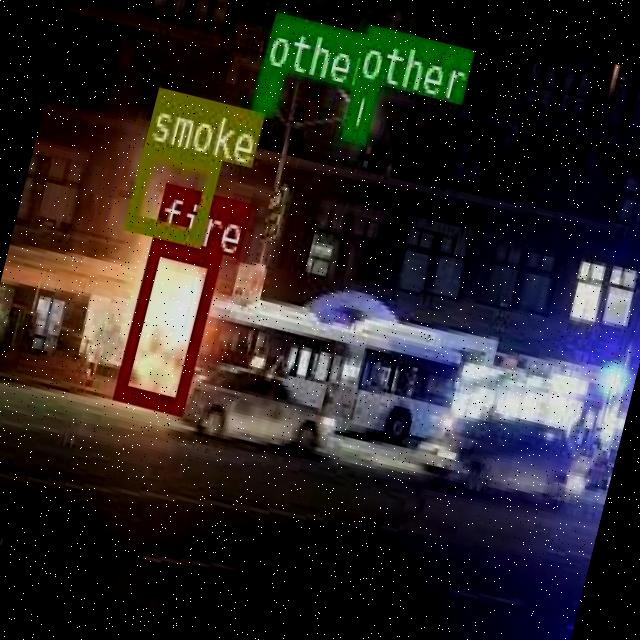fire: (112, 233, 219, 410)
smoke: (124, 141, 218, 242)
